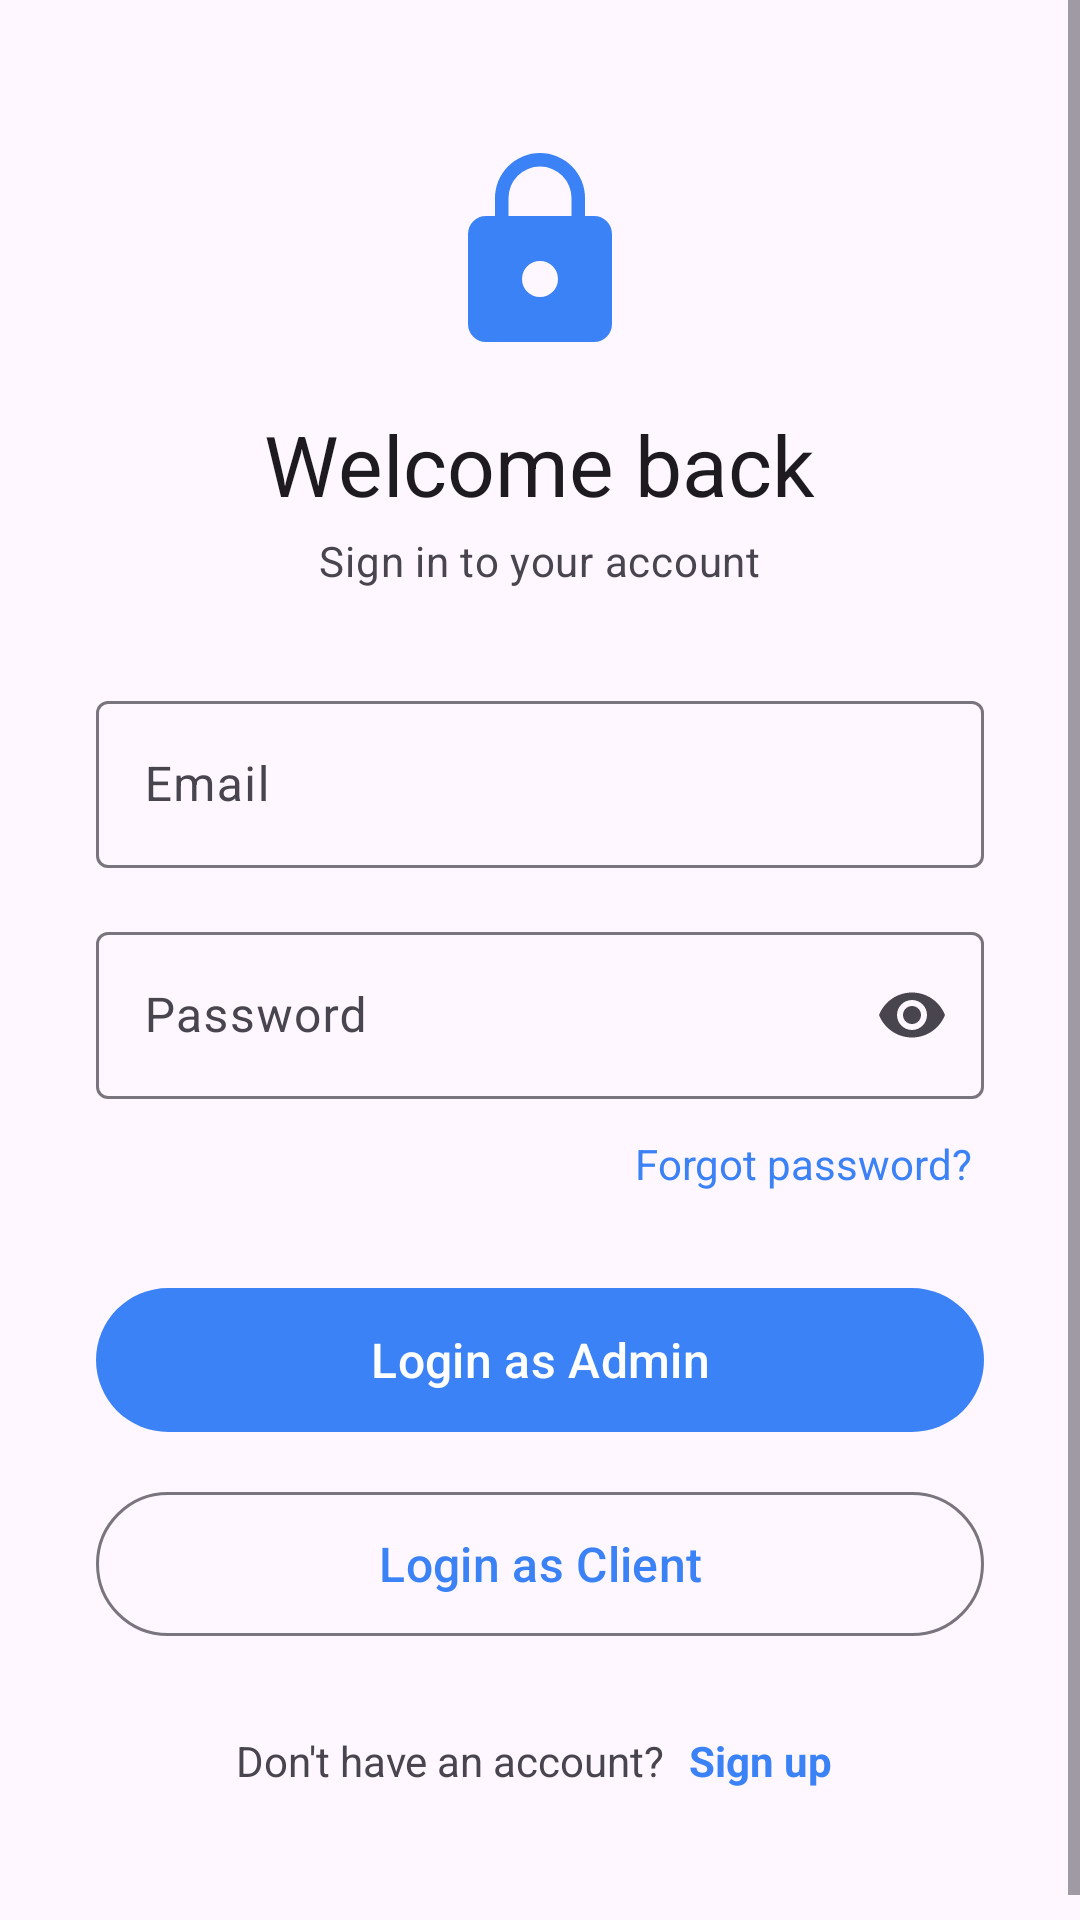

Where to tap for icons on this 1080*1920 app screen, as (x=x, y=y):
lock: (x=540, y=247)
